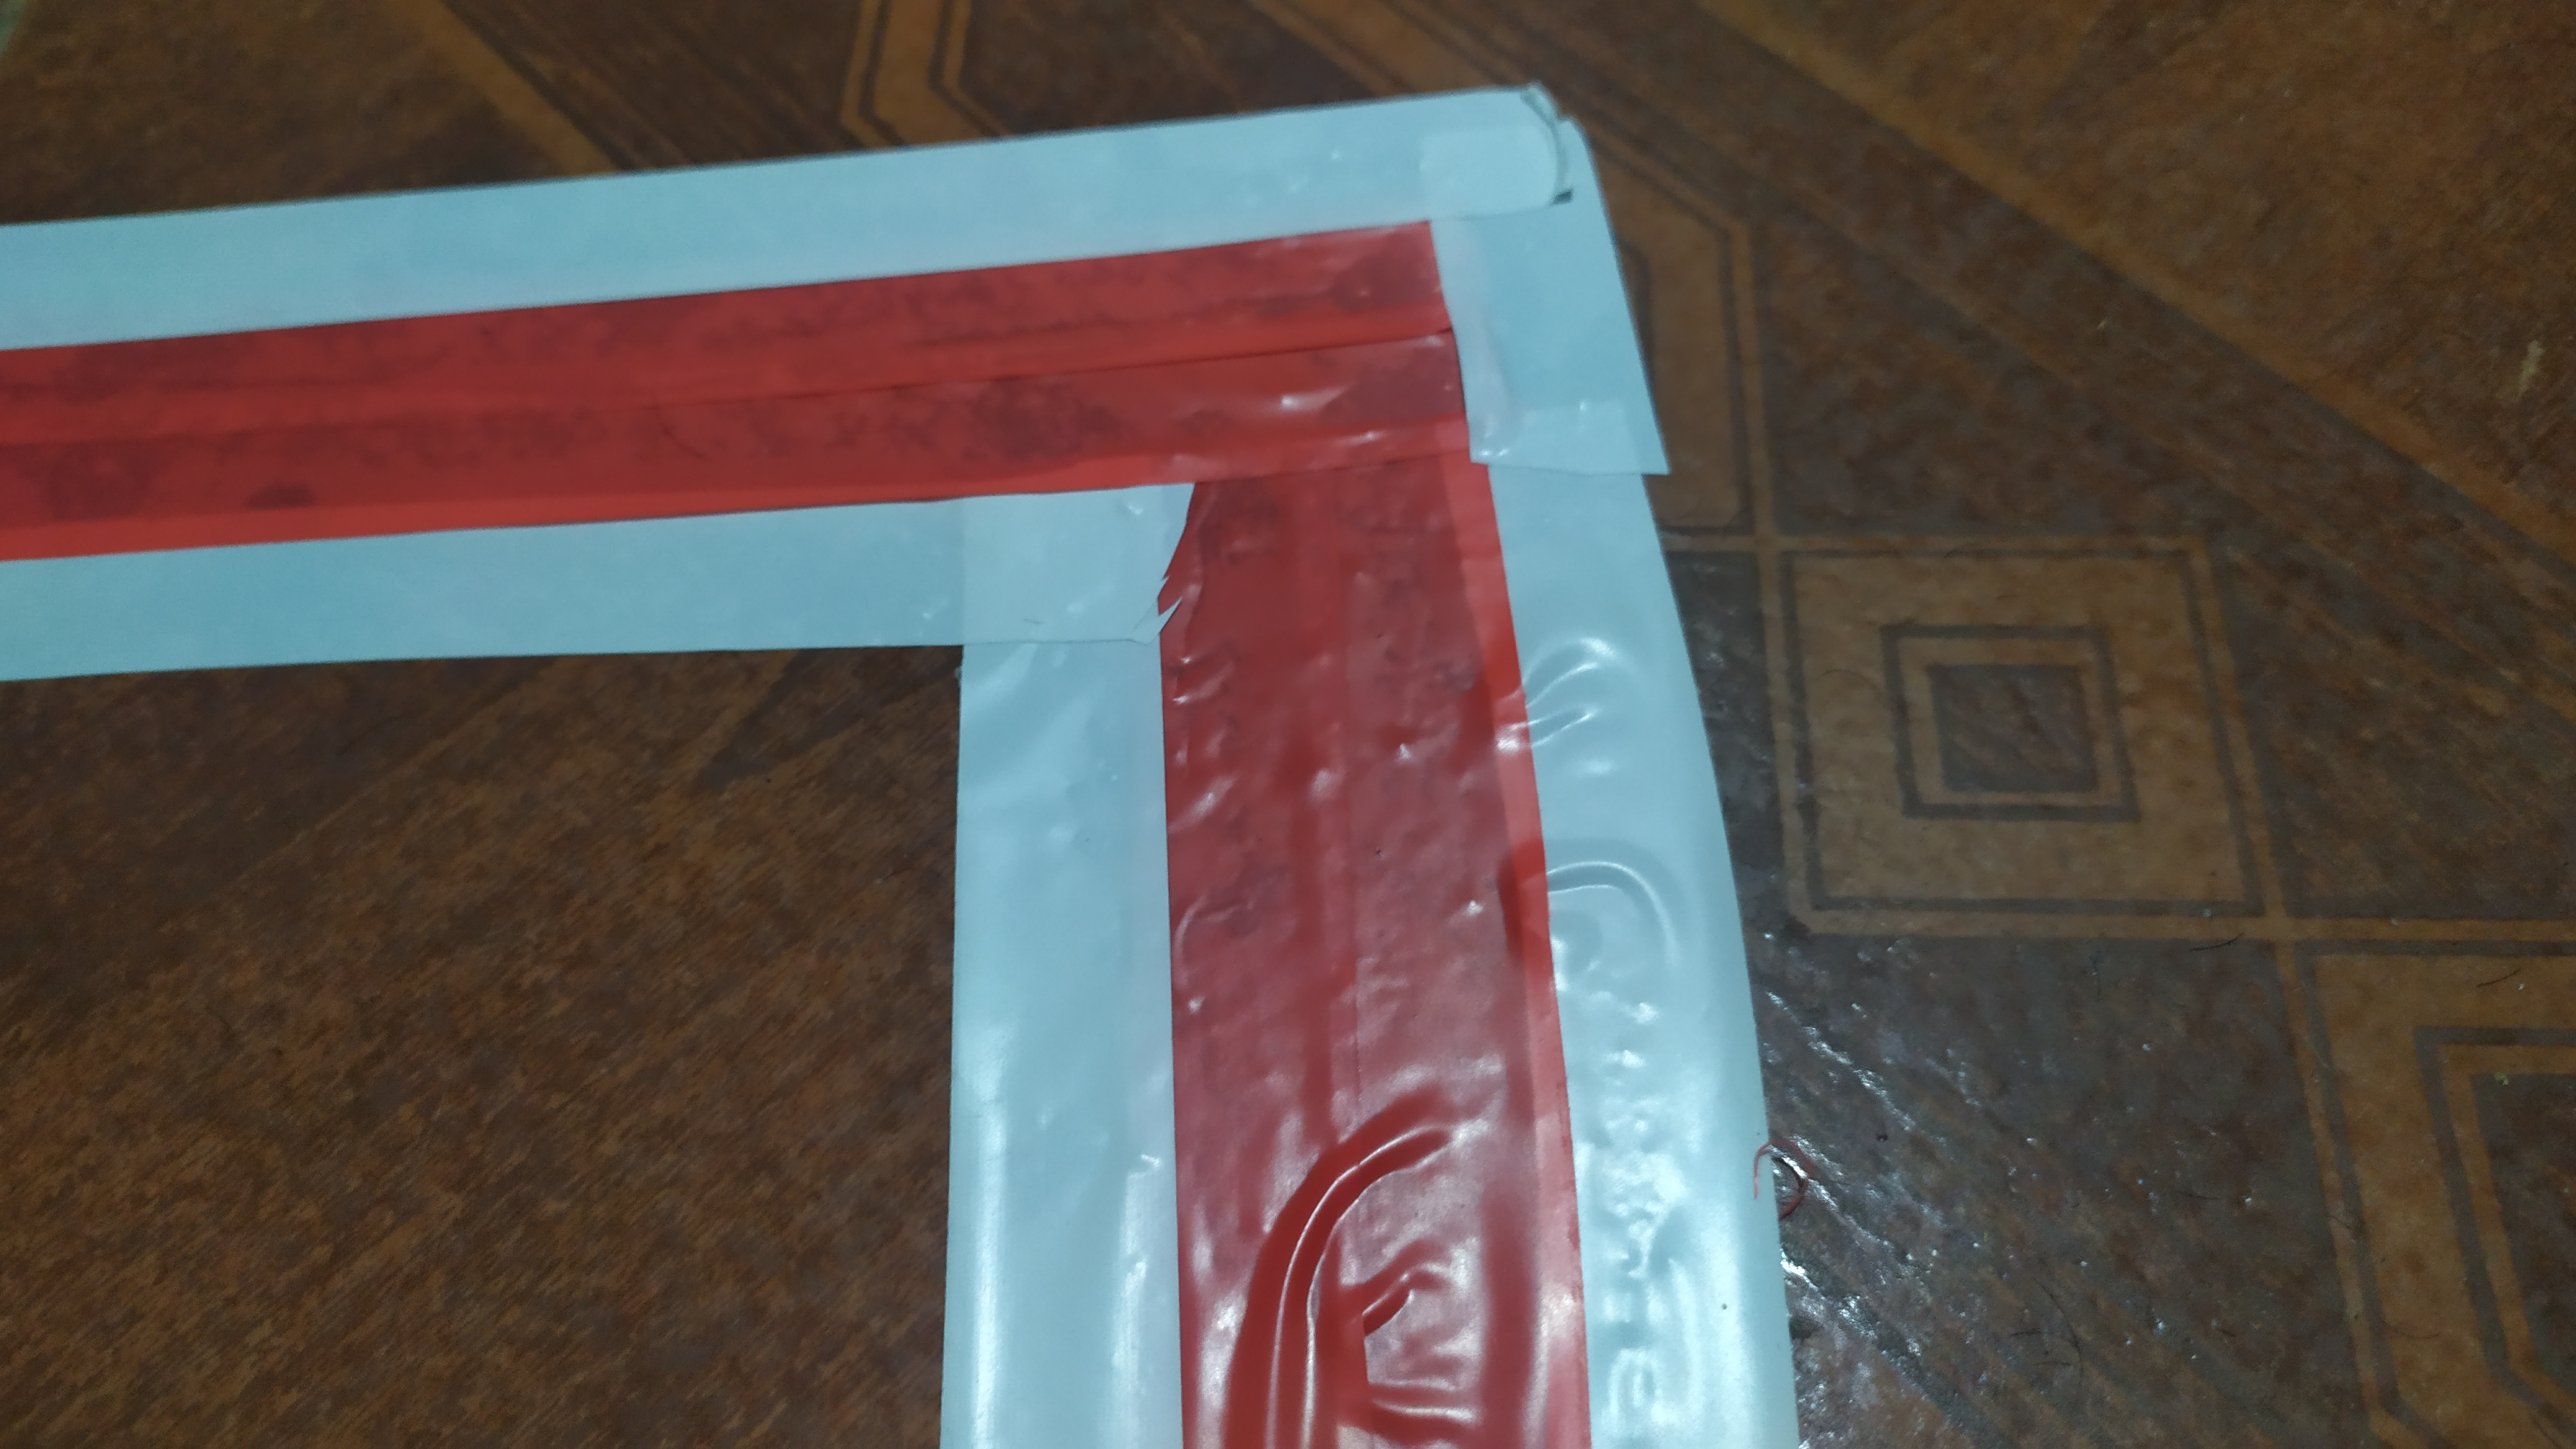faixa_esquerda: (0, 83, 1792, 1449)
